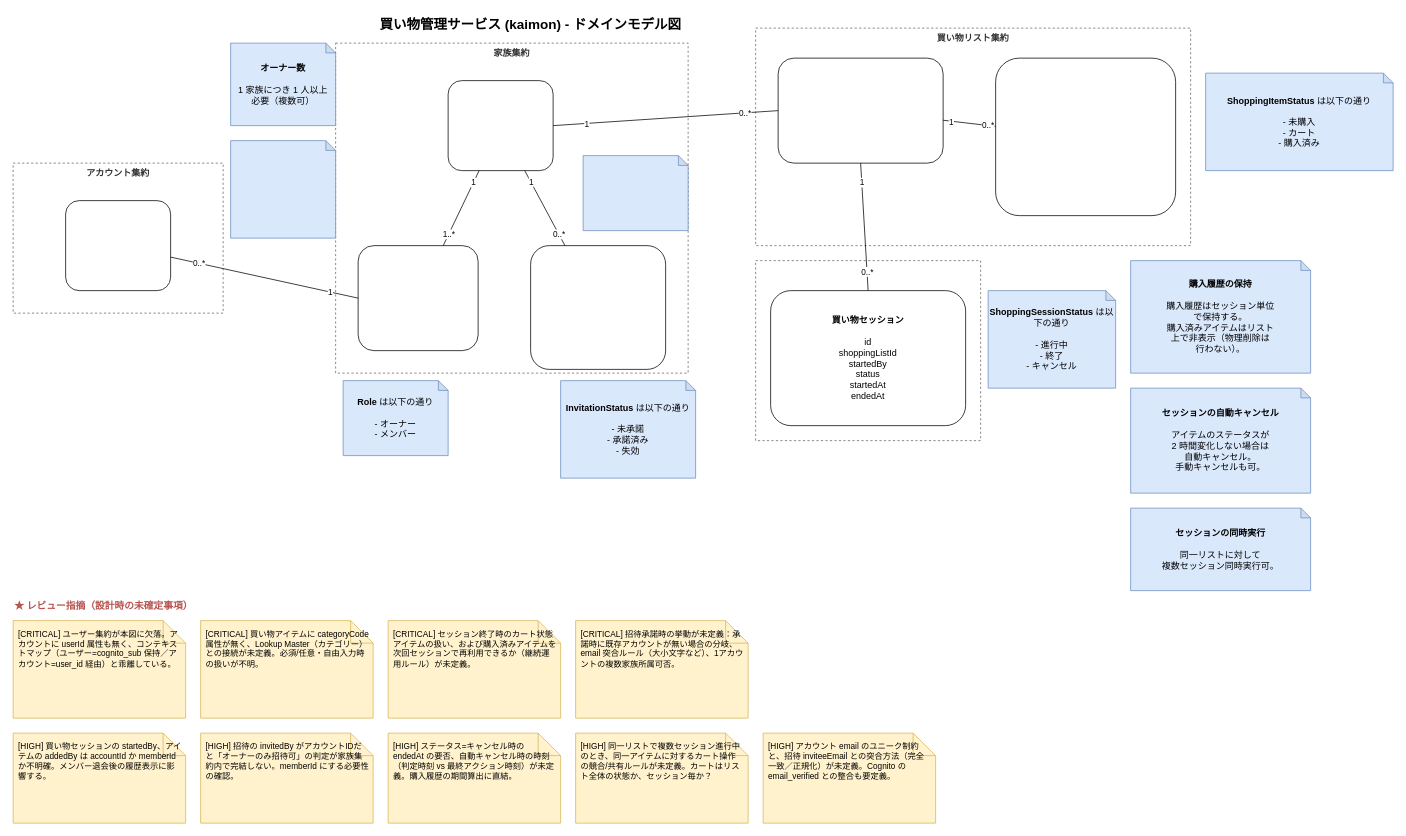
This 1406x836 diagram has some shape labels left out. Each missing label, with the box of its shape:
アカウント id name email createdAt: (65, 200, 171, 291)
オーナーのみ招待が可能: (582, 155, 688, 231)
家族 id name createdAt: (447, 80, 553, 171)
家族メンバー id accountId role joinedAt: (357, 245, 478, 351)
招待 id invitedBy inviteeEmail status invitedAt expiresAt: (530, 245, 666, 369)
最後のオーナー退会 最後のオーナーは他メンバー へオーナー譲渡後のみ退会可: (230, 140, 336, 238)
買い物アイテム id name quantity status addedBy addedAt purchasedInSessionId: (995, 57, 1176, 216)
買い物セッション集約: (755, 260, 981, 441)
買い物リスト id familyId name createdAt: (777, 57, 943, 163)
